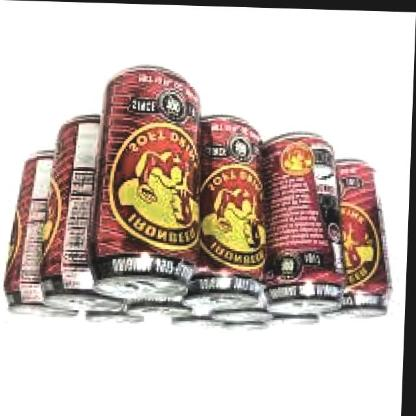Can: (86, 60, 208, 302), (38, 106, 140, 314), (184, 112, 274, 310), (264, 126, 352, 316), (320, 148, 404, 324), (3, 148, 88, 320), (126, 292, 198, 324), (86, 304, 148, 328), (266, 309, 330, 331), (212, 306, 278, 324), (172, 314, 224, 332)
